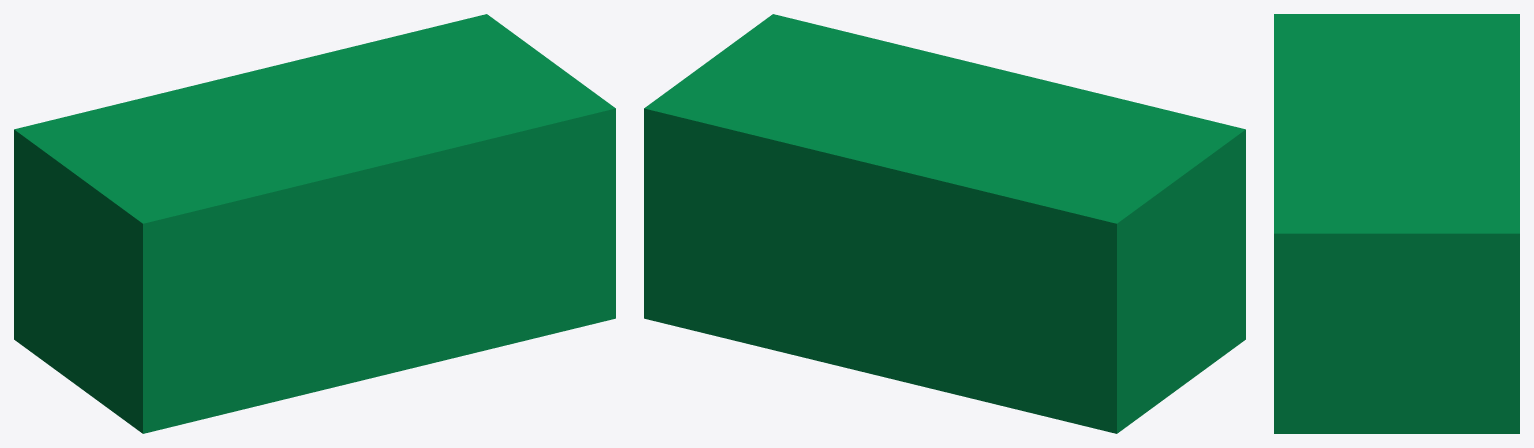
The model's file is brick_294g.dae.
The picture shows the model from 3 angles, left to right: view 1: azimuth 30°, elevation 25°; view 2: azimuth 150°, elevation 25°; view 3: azimuth 270°, elevation 25°; orthographic projection. The views are drawn at different scales.
Visible parts, largest first — view 1: Shape_IndexedFaceSet.001; view 2: Shape_IndexedFaceSet.001; view 3: Shape_IndexedFaceSet.001.
Part boxes in pixels (x1,y1,x2,y2): Shape_IndexedFaceSet.001: [14, 14, 615, 433]; Shape_IndexedFaceSet.001: [644, 14, 1245, 433]; Shape_IndexedFaceSet.001: [1274, 14, 1519, 433].
Bounding box in the file's own units: 0.073 × 0.0345 × 0.031.
